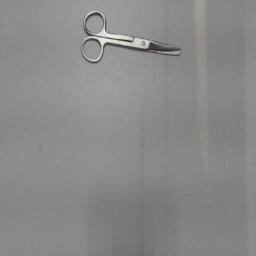Dressing Scissors: (76, 6, 188, 70)
